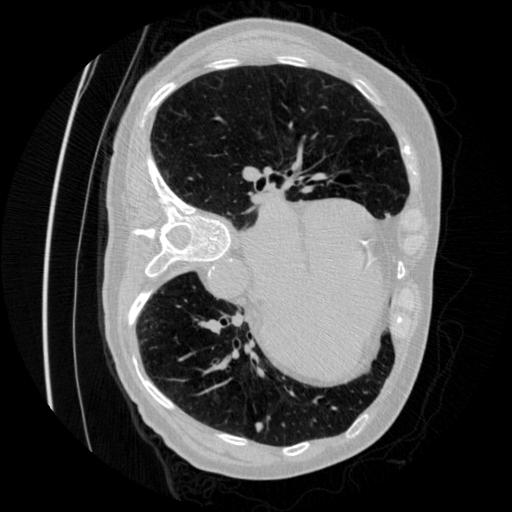nodule: (253, 419, 266, 432)
